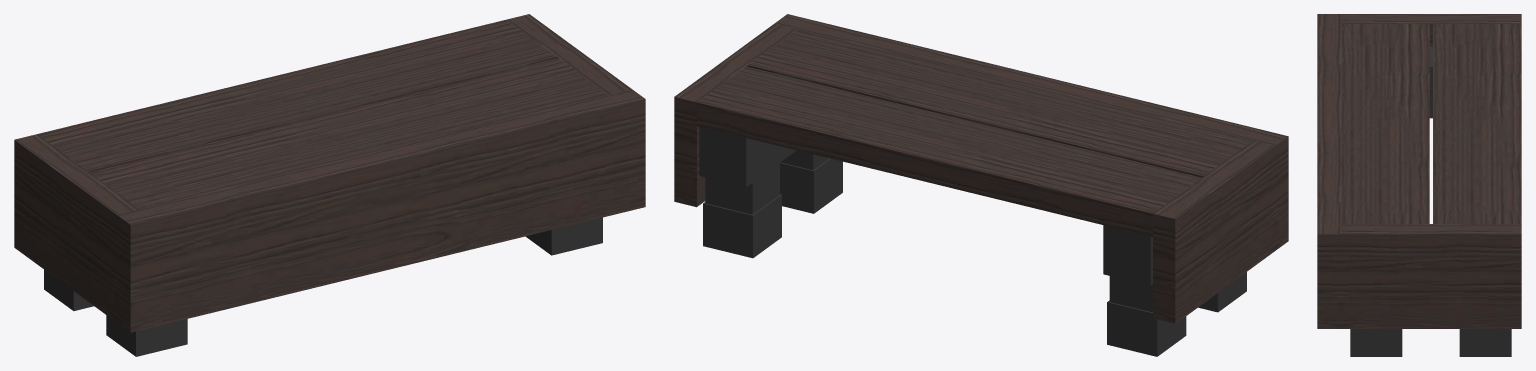
The model's file is tanmok-step_asianbrown.fbx.
3 renders of one model, left to right at view 1: azimuth 30°, elevation 25°; view 2: azimuth 150°, elevation 25°; view 3: azimuth 270°, elevation 25°, orthographic. The views are drawn at different scales.
Visible parts, largest first — view 1: tanmok-step_asianbrown; view 2: tanmok-step_asianbrown; view 3: tanmok-step_asianbrown.
Boxes of the visible parts, box(x1,y1,x2,y2) form: tanmok-step_asianbrown: box(14, 14, 645, 356); tanmok-step_asianbrown: box(674, 14, 1288, 356); tanmok-step_asianbrown: box(1317, 14, 1521, 356).
Bounding box in the file's own units: 80 × 22.5 × 31.3.
Materials: 2 (2 with a texture image).
